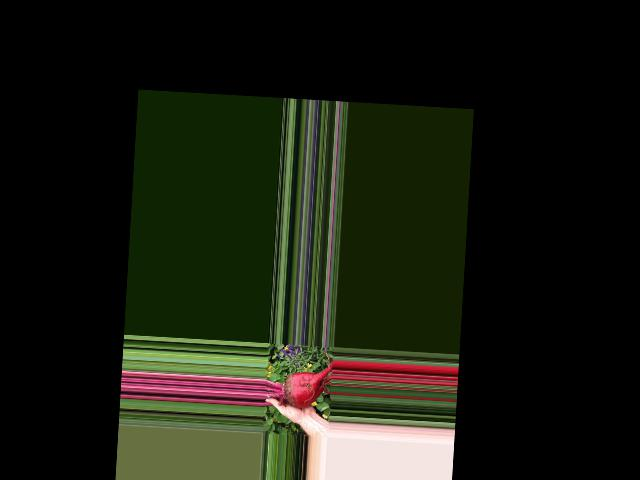beet: (264, 357, 333, 409)
